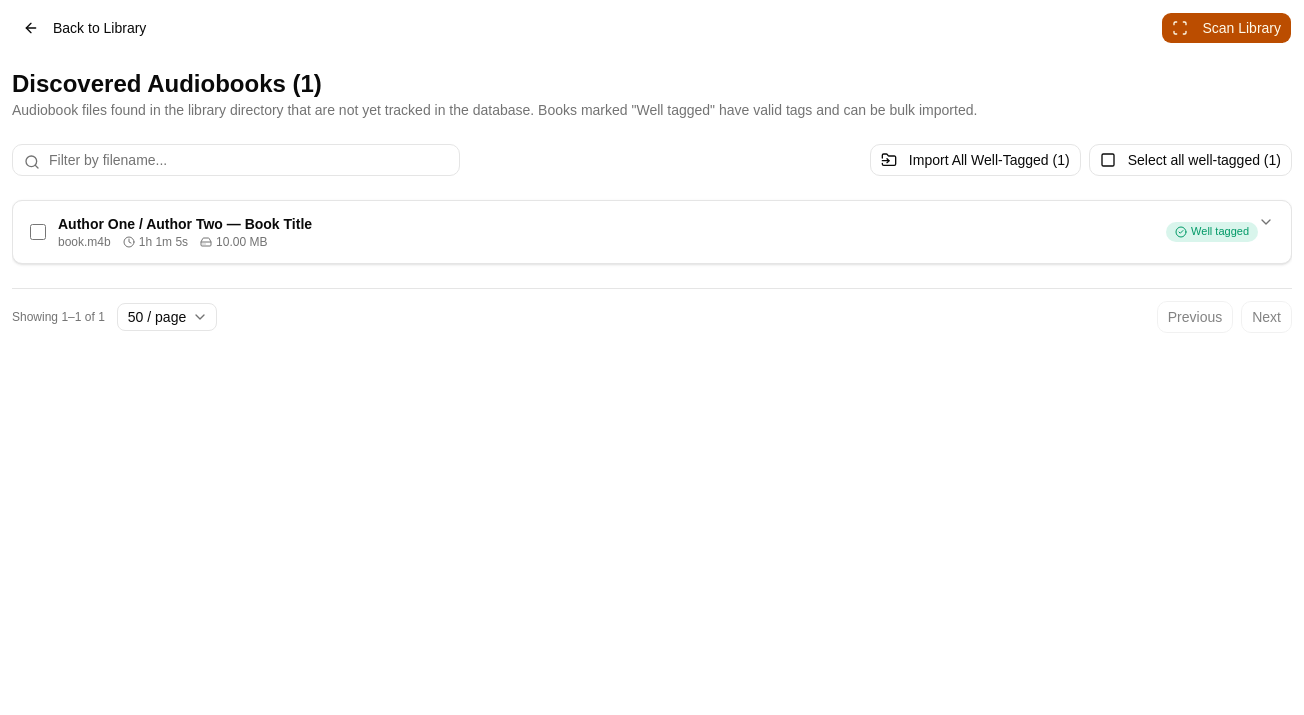
Scenario: DiscoveredAudiobooks › displays duration, file size, and technical details in accordion content
Expected: the text "1h 1m 5s" is shown, [123,234,188,250]
Expected: the text "10.00 MB" is shown, [200,234,268,250]
Step 1. Click the text "Book Title" → (185, 224), box [58,216,312,232]
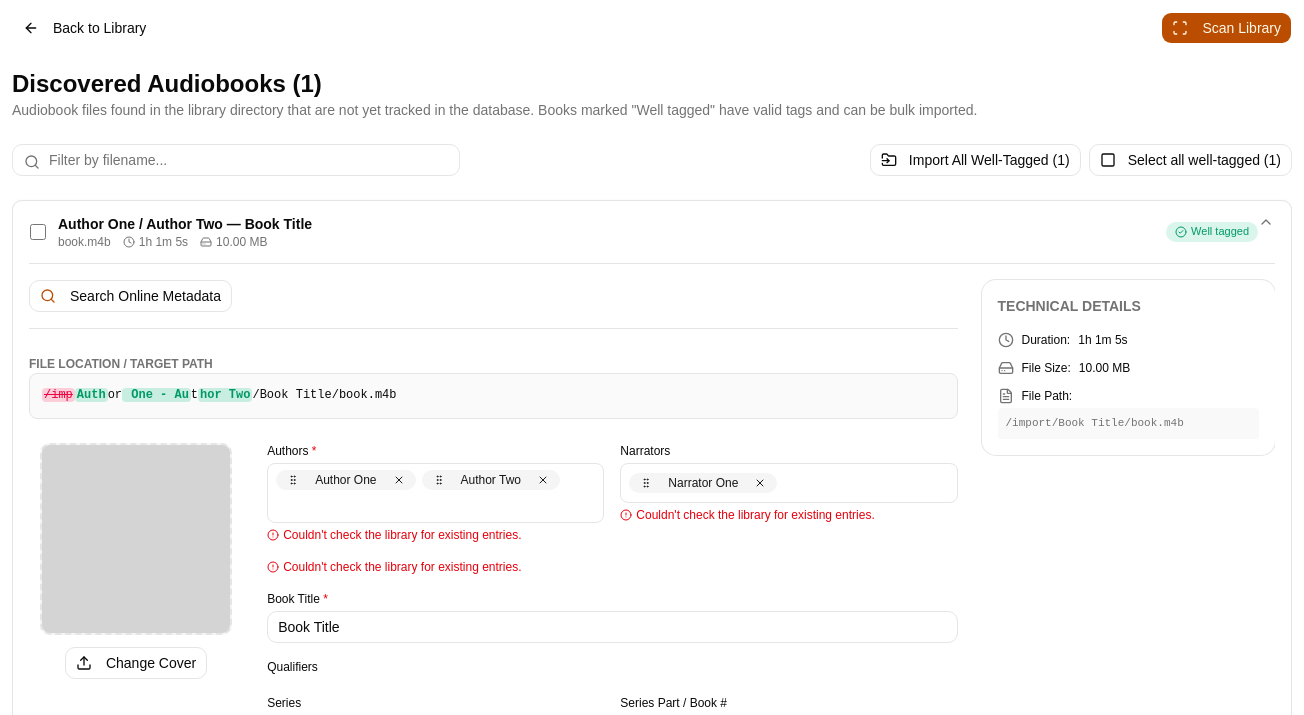
Now the text "Technical Details" is shown, box [998,298,1141,314]
